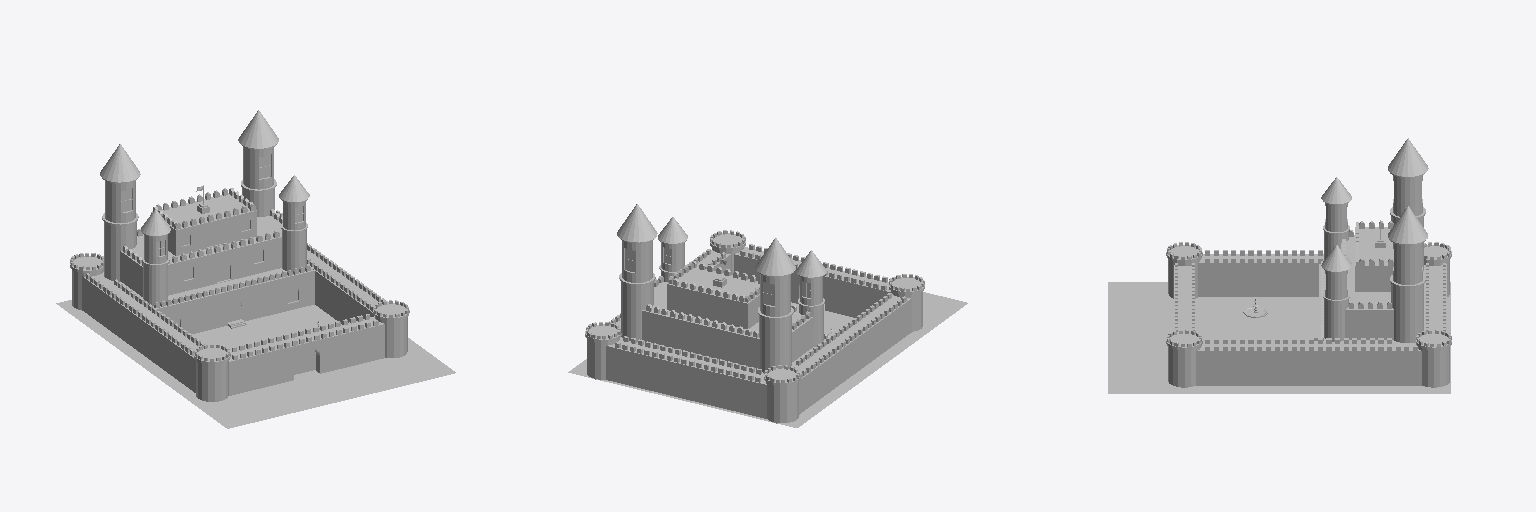
The model's file is Castle OBJ.obj.
3 views of the same model, side by side, from view 1: azimuth 30°, elevation 25°; view 2: azimuth 150°, elevation 25°; view 3: azimuth 270°, elevation 25° (orthographic).
Visible parts, largest first — view 1: Castle_OBJ; view 2: Castle_OBJ; view 3: Castle_OBJ.
Boxes of the visible parts, x1,y1,x2,y2 form: Castle_OBJ: [56, 110, 455, 428]; Castle_OBJ: [568, 204, 967, 427]; Castle_OBJ: [1108, 138, 1451, 393].
Size of the model in its own units: 58.11 by 40.26 by 75.6.